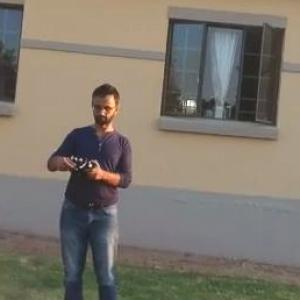follow: (36, 78, 140, 299)
